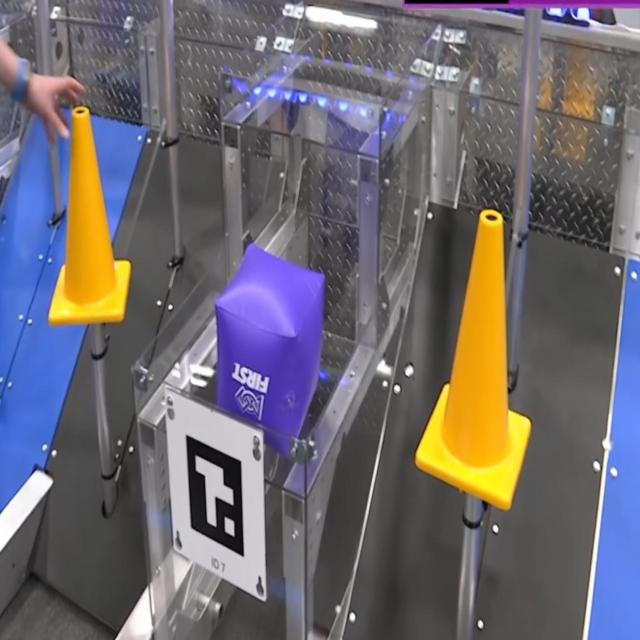frc_cone: (412, 210, 534, 514), (47, 101, 131, 334)
frc_cube: (215, 240, 325, 459)
